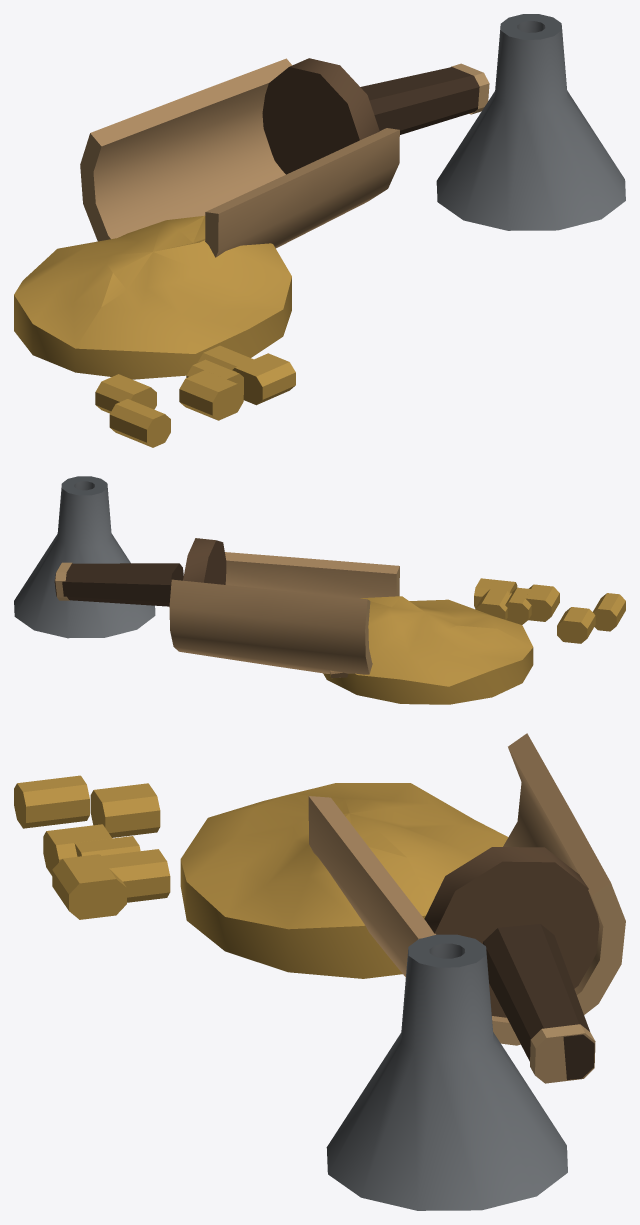
The model's file is SM_LPD_Crate_MeasureScoop_01.fbx.
The picture shows the model from 3 angles, top to bottom: view 1: azimuth 30°, elevation 25°; view 2: azimuth 150°, elevation 25°; view 3: azimuth 270°, elevation 25°; orthographic projection. The views are drawn at different scales.
Parts seen in each view (by area): view 1: SM_LPD_Crate_MeasureScoop_01; view 2: SM_LPD_Crate_MeasureScoop_01; view 3: SM_LPD_Crate_MeasureScoop_01.
Part boxes in pixels (x1=…): SM_LPD_Crate_MeasureScoop_01: x1=14, y1=14, x2=625, y2=447; SM_LPD_Crate_MeasureScoop_01: x1=14, y1=476, x2=625, y2=704; SM_LPD_Crate_MeasureScoop_01: x1=14, y1=733, x2=625, y2=1210.
Bounding box in the file's own units: 0.522 × 0.126 × 0.3347.
